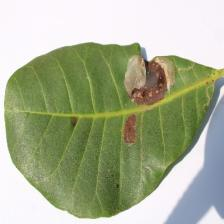leaf miner: (126, 52, 177, 108), (123, 112, 140, 148)
